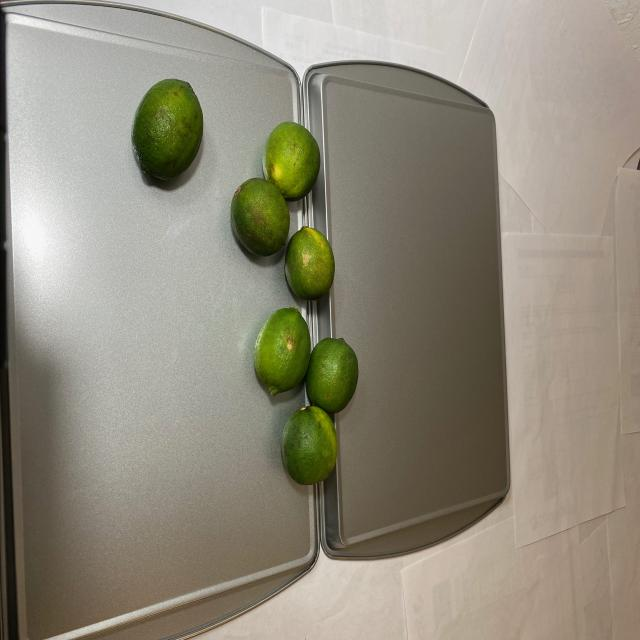lemon: (231, 116, 359, 488), (131, 76, 207, 186)
